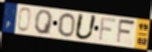0: (16, 6, 34, 33)
F: (115, 18, 137, 45), (97, 16, 117, 42)
O: (57, 12, 76, 38)
Q: (34, 9, 55, 36)
U: (73, 13, 98, 41)
